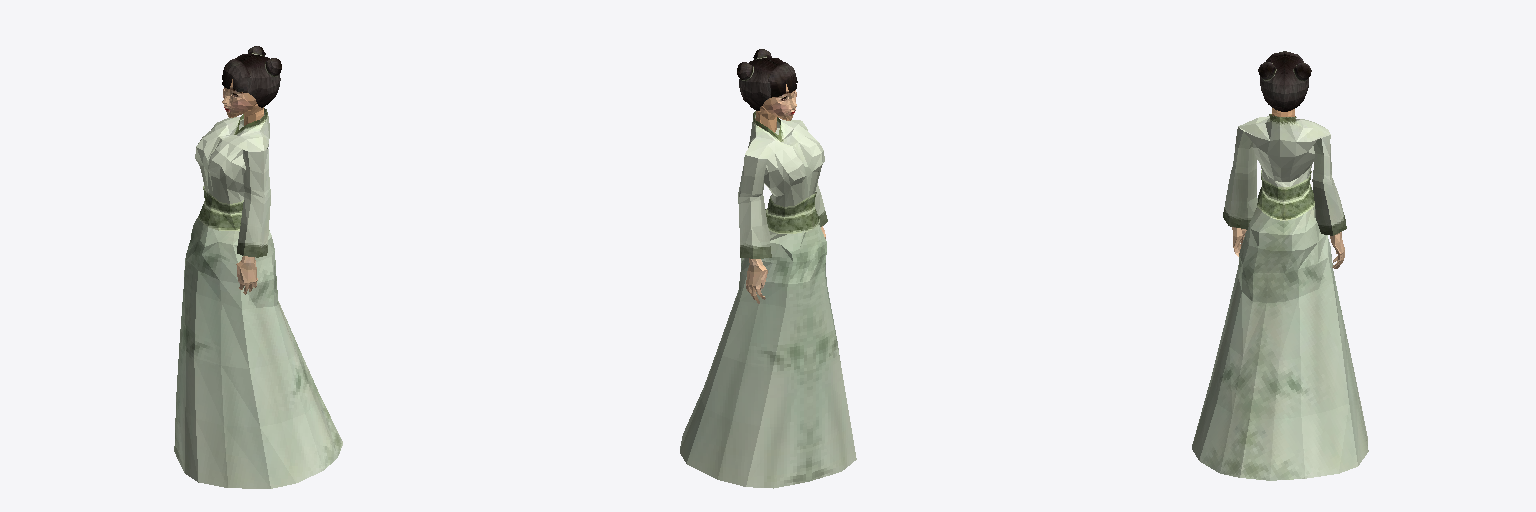
3 views of the same model, side by side, from view 1: azimuth 30°, elevation 25°; view 2: azimuth 150°, elevation 25°; view 3: azimuth 270°, elevation 25° (orthographic).
Visible parts, largest first — view 1: Object_Civilian01_map512-0.jpg, Object_Civilian02_map512-0.jpg; view 2: Object_Civilian01_map512-0.jpg, Object_Civilian02_map512-0.jpg; view 3: Object_Civilian01_map512-0.jpg, Object_Civilian02_map512-0.jpg.
Boxes of the visible parts, x1=… form: Object_Civilian01_map512-0.jpg: x1=174, y1=108, x2=342, y2=488; Object_Civilian02_map512-0.jpg: x1=222, y1=46, x2=281, y2=294; Object_Civilian01_map512-0.jpg: x1=680, y1=111, x2=856, y2=488; Object_Civilian02_map512-0.jpg: x1=737, y1=49, x2=825, y2=303; Object_Civilian01_map512-0.jpg: x1=1192, y1=114, x2=1368, y2=480; Object_Civilian02_map512-0.jpg: x1=1232, y1=51, x2=1344, y2=268.
Size of the model in its own units: 0.9602 by 2.5 by 1.01.
Materials: 3 (2 with a texture image).